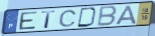A: (114, 5, 138, 25)
B: (96, 5, 118, 27)
C: (58, 9, 78, 28)
D: (77, 7, 99, 28)
E: (18, 10, 39, 31)
T: (41, 10, 57, 29)
